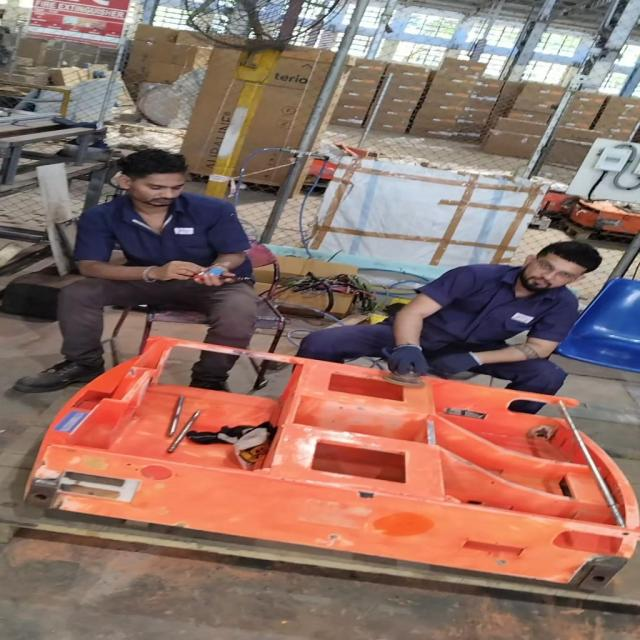Gloves-Detection: (388, 342, 426, 376), (432, 351, 474, 378)
